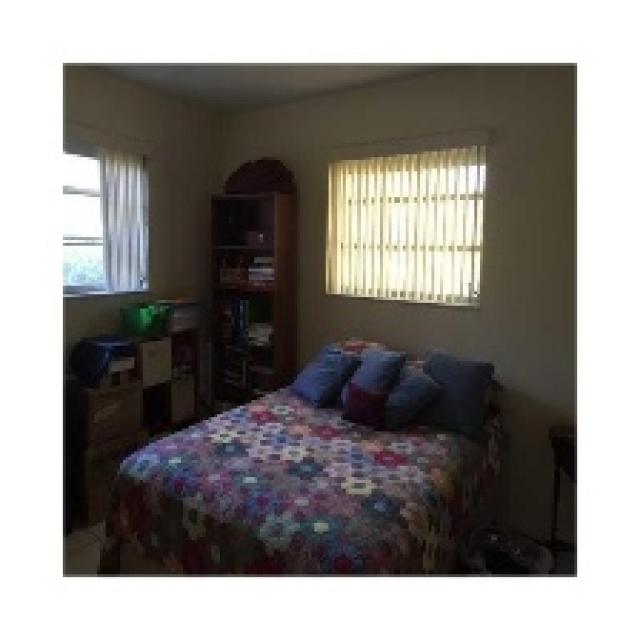Bed: (97, 337, 506, 574)
